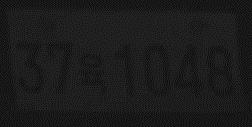0: (142, 40, 170, 102)
1: (112, 39, 135, 100)
3: (13, 38, 44, 99)
4: (172, 43, 204, 100)
7: (44, 39, 74, 95)
8: (205, 45, 236, 101)
육: (75, 50, 111, 102)
